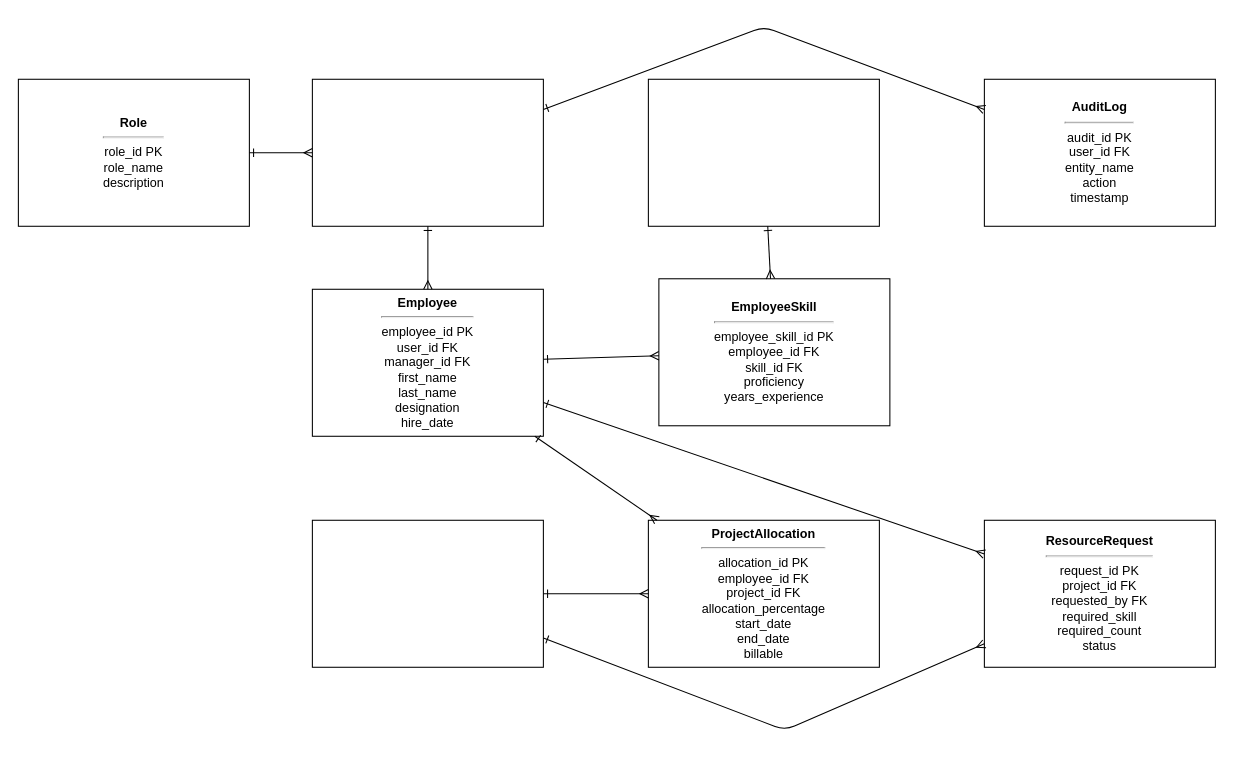
Image size: 1234x758. Some labels were removed from this diagram. The shapes that lost their labels are listed below. From the top down, each one's centre as x and y in pixels, then its label:
At (427,152): "User user_id PK username password_hash email status role_id FK".
At (763,152): "Skill skill_id PK skill_name category".
At (427,593): "Project project_id PK project_name start_date end_date status".
